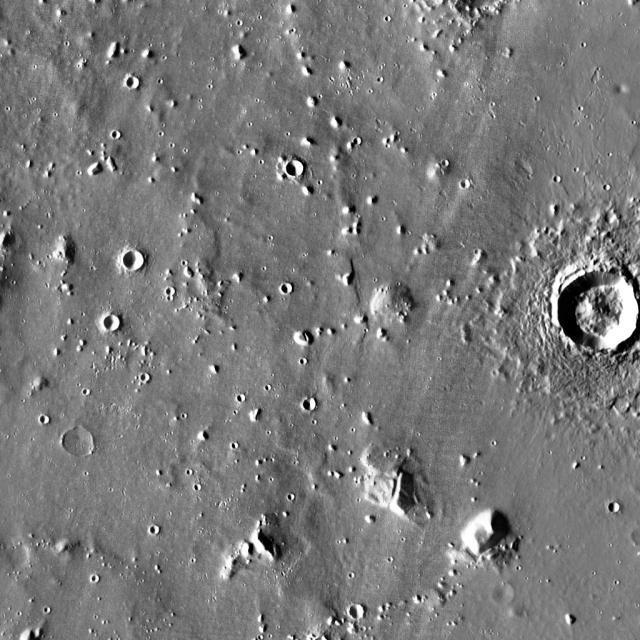crater: (457, 0, 640, 244), (301, 471, 456, 616), (560, 271, 640, 349), (62, 427, 92, 456), (122, 250, 143, 270), (494, 584, 515, 604), (103, 314, 119, 330), (287, 161, 303, 176), (349, 605, 362, 618), (128, 76, 141, 88), (150, 525, 160, 535), (304, 400, 314, 410), (609, 503, 619, 513), (282, 283, 292, 292), (141, 373, 150, 382), (39, 416, 48, 424), (461, 180, 470, 188), (113, 130, 121, 138), (167, 287, 174, 295), (237, 394, 245, 401), (553, 175, 561, 182), (442, 160, 449, 167), (287, 494, 294, 501), (353, 138, 361, 144), (84, 388, 90, 396), (300, 358, 307, 364), (193, 484, 200, 490), (231, 442, 238, 448), (92, 576, 98, 582), (604, 184, 610, 190)
